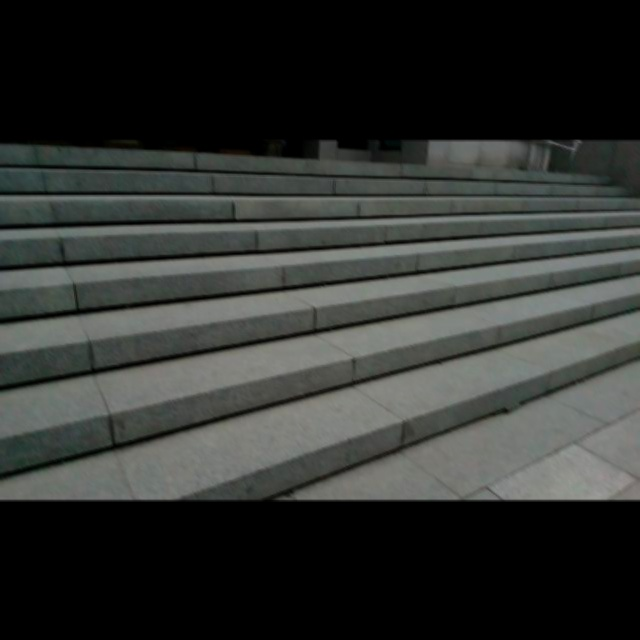stair: (0, 170, 632, 488)
